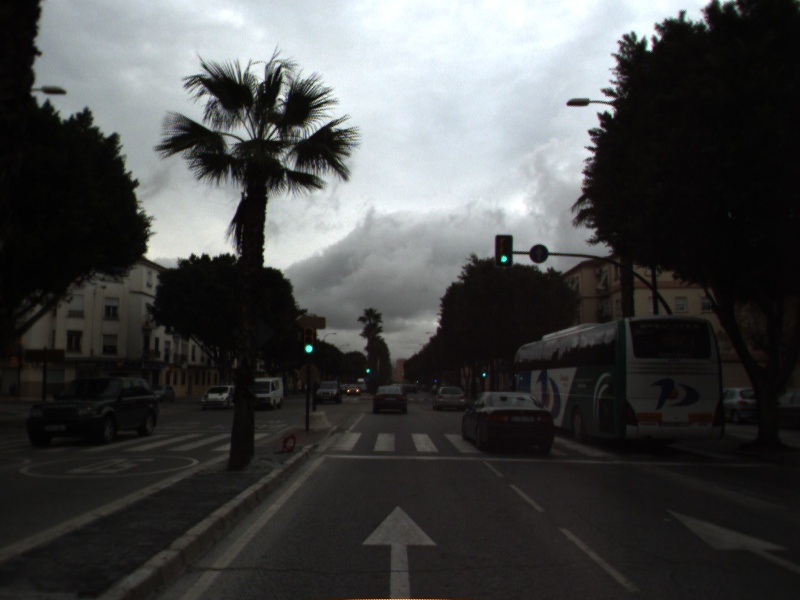STRAIGHT: (662, 505, 800, 575), (358, 502, 441, 600)
